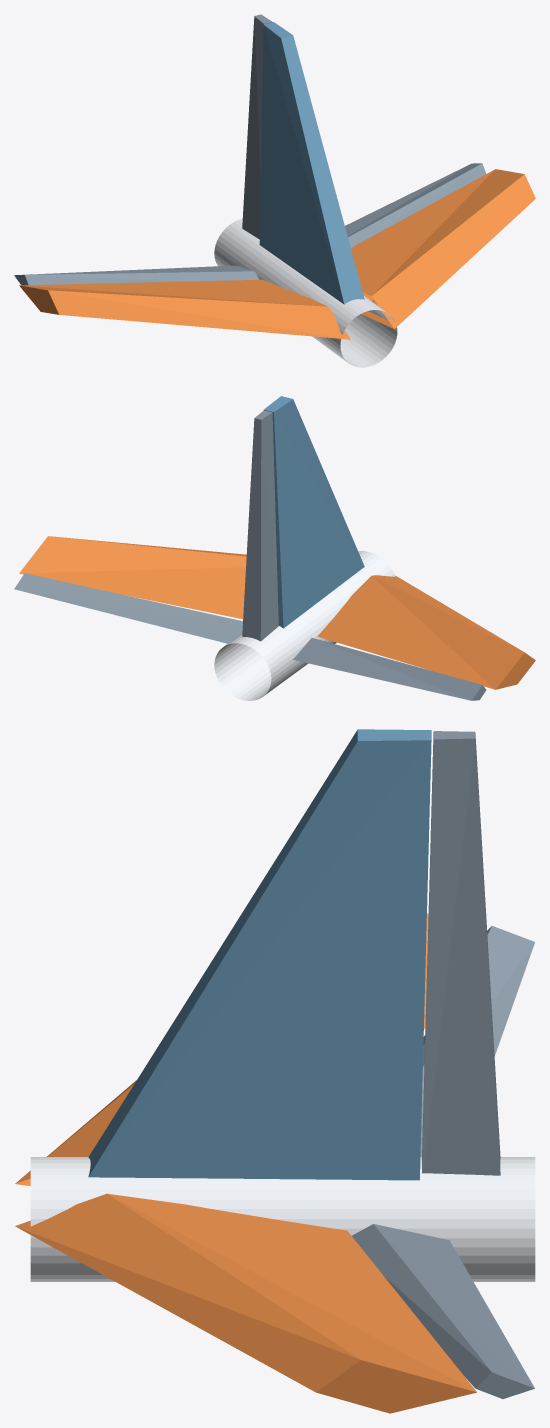
File: horizontal-stabilizer.glb
3 renders of one model, top to bottom at view 1: azimuth 30°, elevation 25°; view 2: azimuth 150°, elevation 25°; view 3: azimuth 270°, elevation 25°, orthographic. The views are drawn at different scales.
Size of the model in its own units: 5.52 by 2.99 by 2.61.
